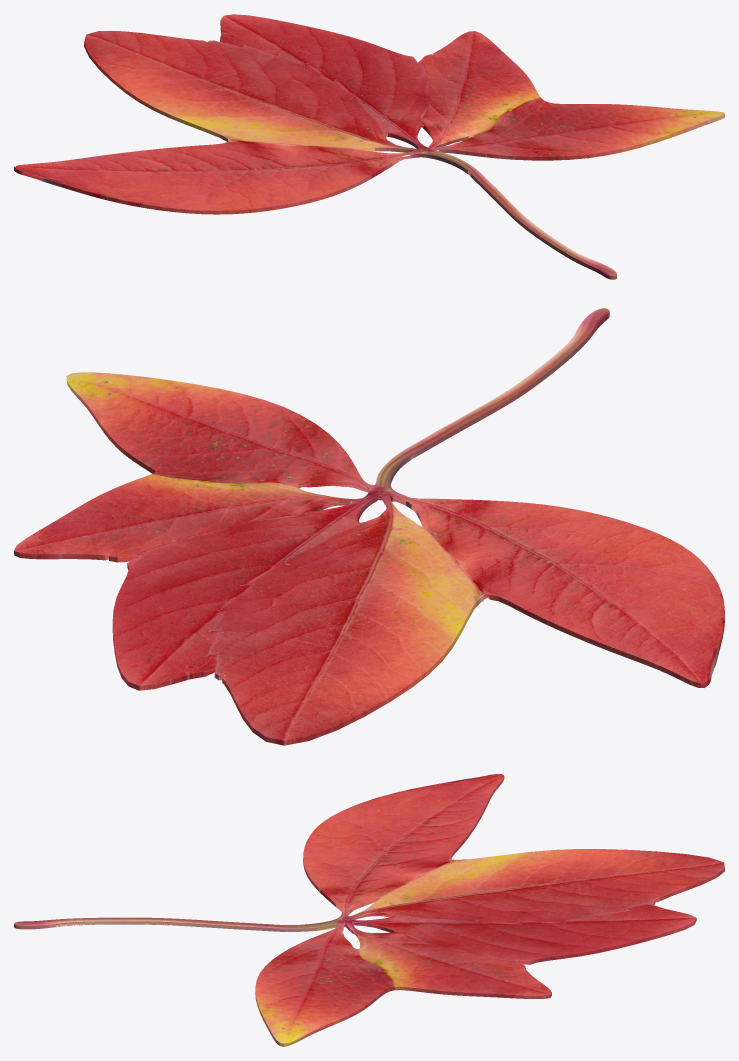
File: leaf_3.fbx
3 renders of one model, top to bottom at view 1: azimuth 30°, elevation 25°; view 2: azimuth 150°, elevation 25°; view 3: azimuth 270°, elevation 25°, orthographic. The views are drawn at different scales.
Parts seen in each view (by area): view 1: Plane; view 2: Plane; view 3: Plane.
Boxes of the visible parts, x1,y1,x2,y2 form: Plane: (14,14,724,279); Plane: (14,308,724,745); Plane: (14,774,724,1046).
Bounding box in the file's own units: 172 × 3.13 × 193.
